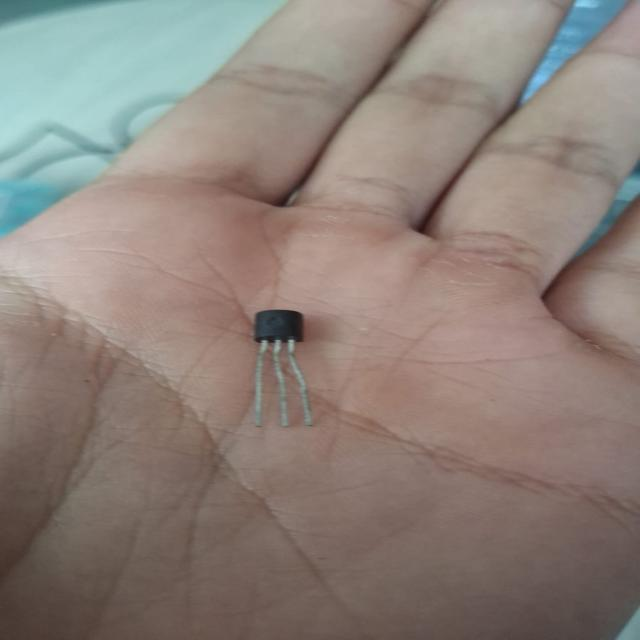Transistor: (253, 309, 314, 428)
